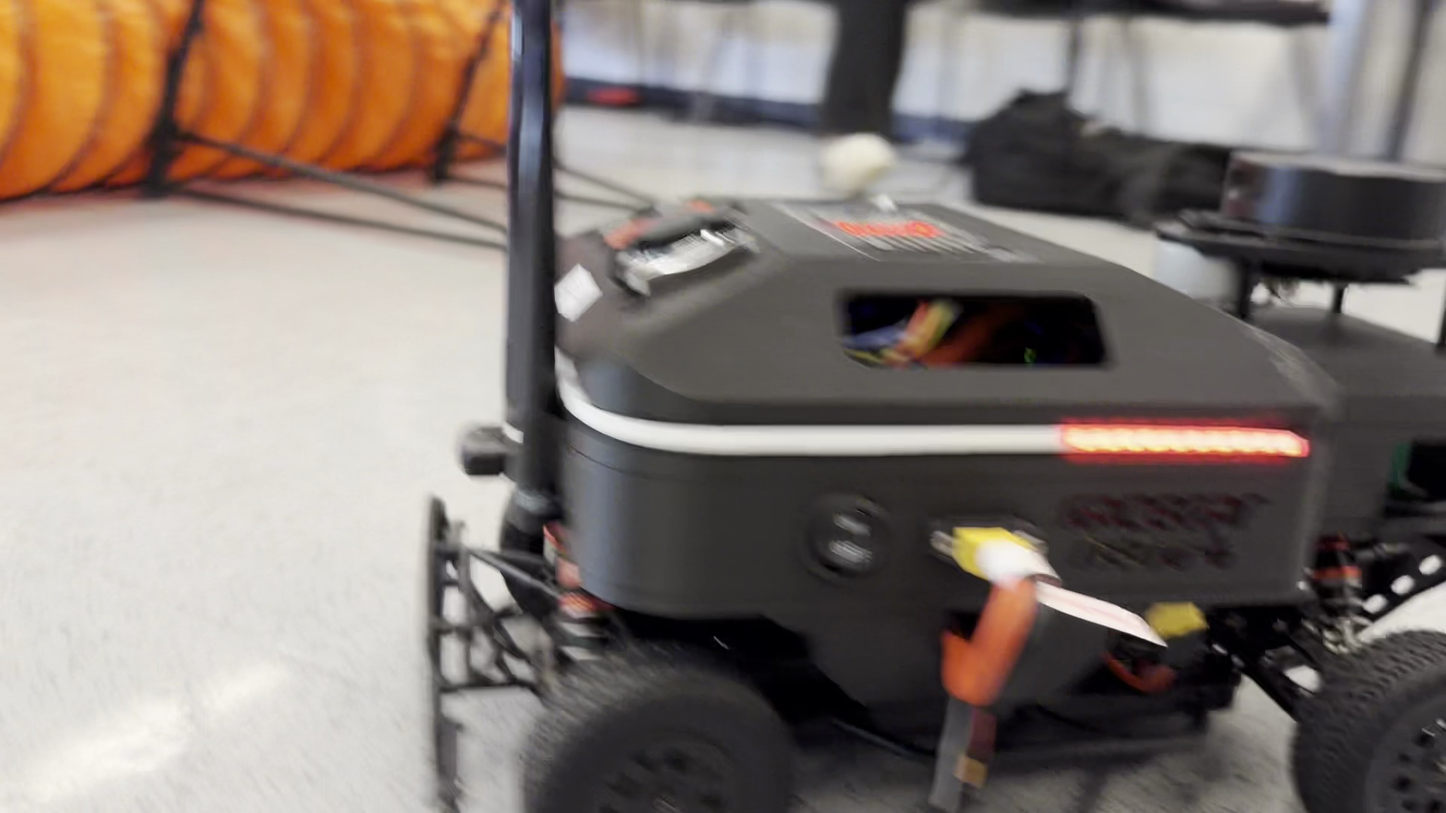racecar: (472, 7, 1446, 813)
